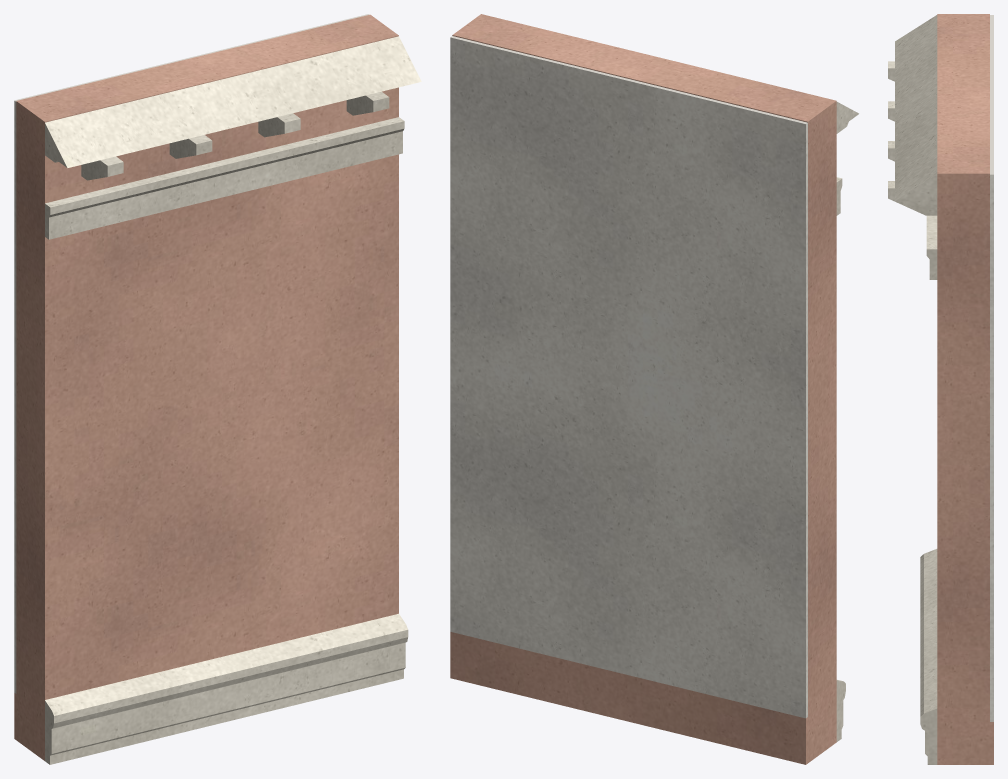
Rendered from u_wall_plain.glb.
The picture shows the model from 3 angles, left to right: view 1: azimuth 30°, elevation 25°; view 2: azimuth 150°, elevation 25°; view 3: azimuth 270°, elevation 25°; orthographic projection. The views are drawn at different scales.
Parts seen in each view (by area): view 1: u_wall_plain_render, u_wall_plain_trim, u_wall_plain_plaster; view 2: u_wall_plain_plaster, u_wall_plain_render, u_wall_plain_trim; view 3: u_wall_plain_render, u_wall_plain_trim, u_wall_plain_plaster.
Boxes of the visible parts, x1,y1,x2,y2 form: u_wall_plain_render: [14, 14, 398, 760]; u_wall_plain_trim: [45, 36, 421, 764]; u_wall_plain_plaster: [14, 14, 368, 693]; u_wall_plain_plaster: [450, 36, 807, 718]; u_wall_plain_render: [450, 14, 836, 764]; u_wall_plain_trim: [836, 102, 858, 741]; u_wall_plain_render: [937, 14, 993, 764]; u_wall_plain_trim: [888, 15, 937, 764]; u_wall_plain_plaster: [990, 15, 993, 721].
Bounding box in the file's own units: 2 × 3.45 × 0.56.
Materials: 3 (3 with a texture image).
